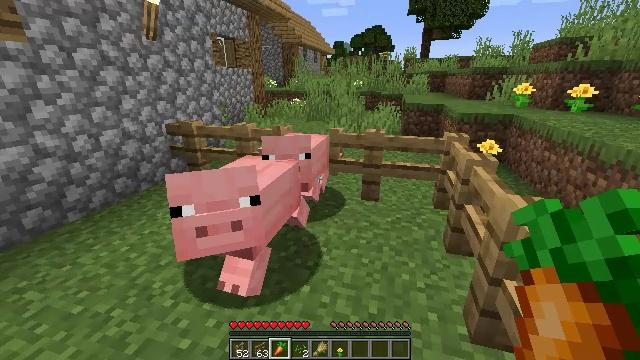pig: (169, 163, 313, 293), (263, 132, 329, 201)
